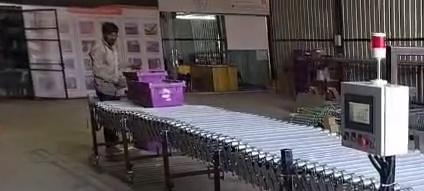box: (127, 80, 184, 107)
